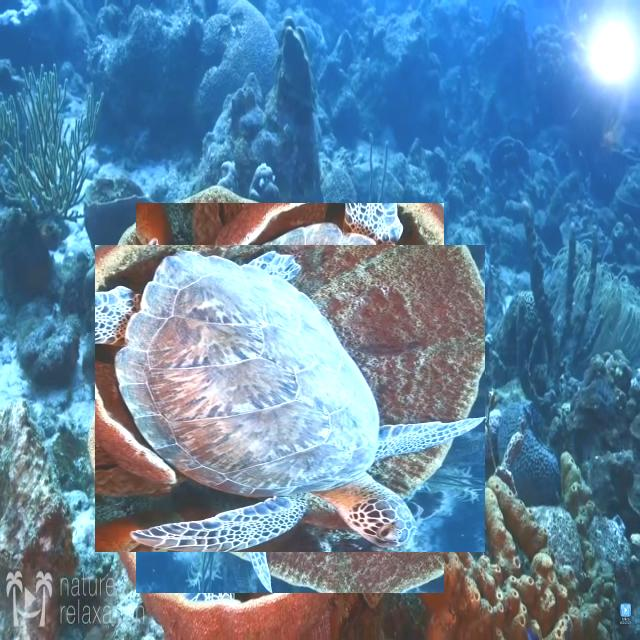Sea turtle: (116, 224, 464, 572)
